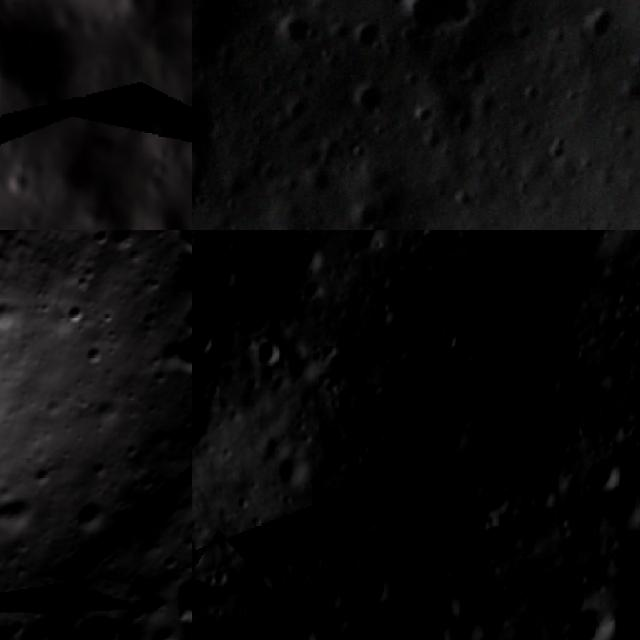crater: (402, 449, 500, 558), (0, 0, 74, 133), (399, 377, 474, 465), (50, 594, 146, 640), (377, 0, 477, 44), (0, 473, 52, 554), (504, 292, 564, 356), (155, 559, 192, 640), (263, 6, 324, 51), (573, 0, 620, 53), (72, 487, 121, 536), (346, 73, 398, 119), (192, 84, 225, 152), (164, 277, 192, 354), (52, 150, 96, 197), (578, 454, 626, 496), (572, 599, 621, 640), (473, 386, 514, 435), (243, 333, 291, 374), (356, 560, 395, 608), (288, 234, 326, 282), (527, 366, 572, 404), (296, 159, 336, 201), (301, 581, 344, 620), (349, 11, 384, 57), (486, 615, 549, 640), (192, 316, 223, 362), (346, 230, 392, 260), (192, 168, 215, 227), (0, 163, 34, 202), (341, 203, 382, 230), (278, 617, 326, 640), (409, 618, 457, 640), (152, 111, 178, 144)
